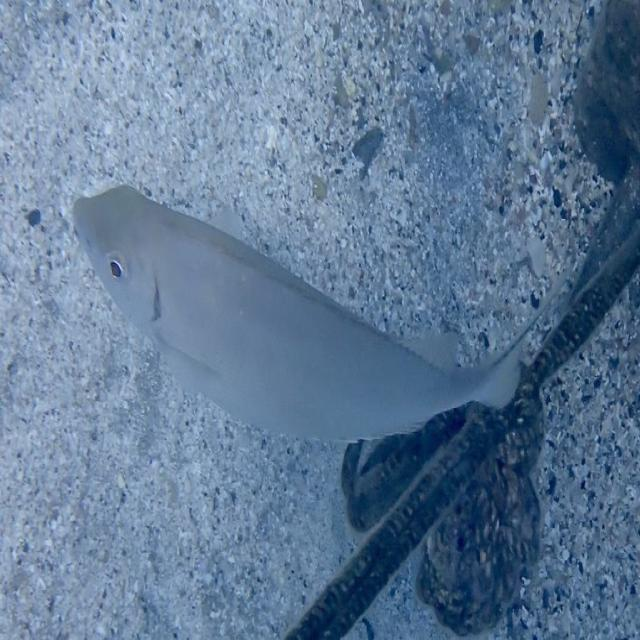Sokar Baligi: (65, 149, 542, 456)
